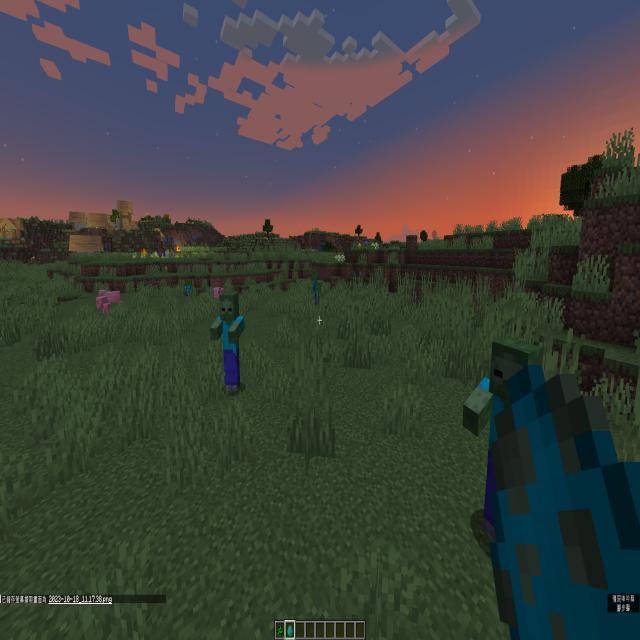Zombie: (459, 326, 555, 560), (213, 290, 247, 399), (309, 262, 320, 311), (315, 278, 326, 310), (181, 274, 191, 300), (188, 276, 194, 299)
pig: (96, 284, 125, 314), (96, 293, 116, 326), (209, 272, 229, 304)
